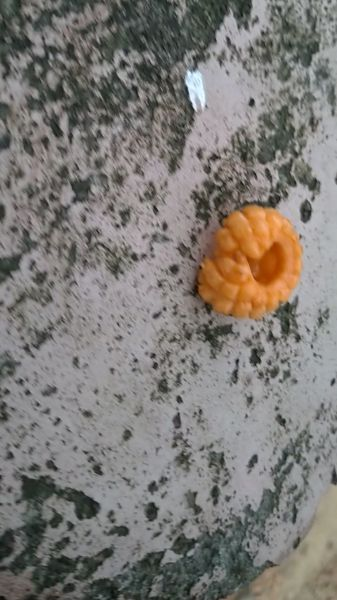eggs: (186, 199, 314, 326)
